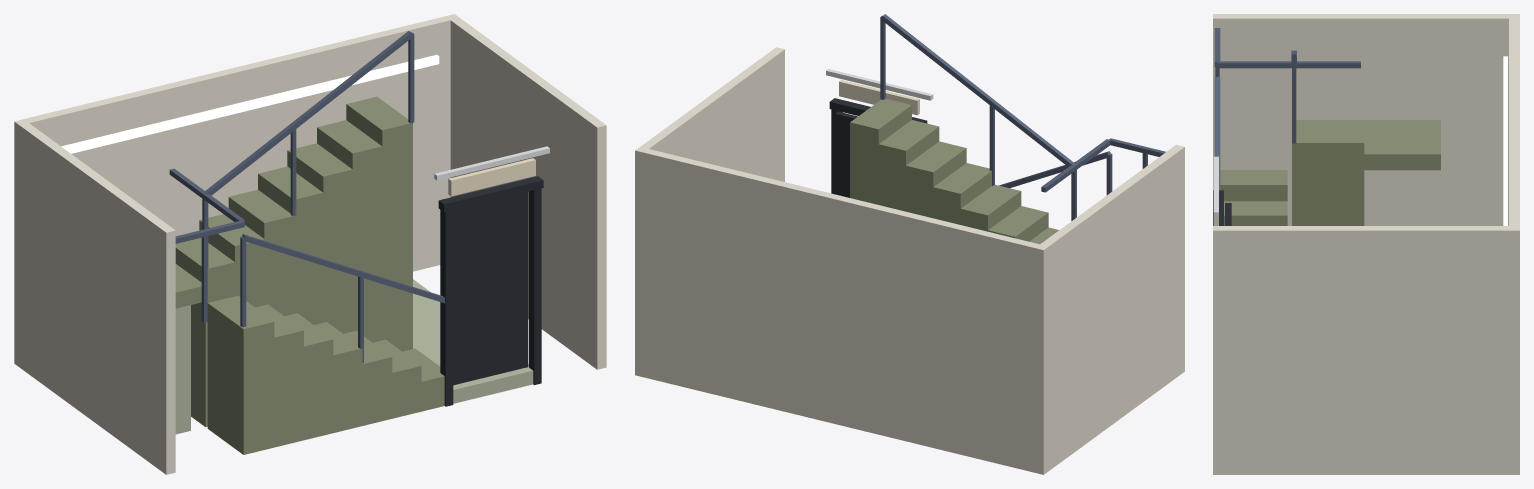
The model's file is escaleras_planta.gltf.
The picture shows the model from 3 angles, left to right: view 1: azimuth 30°, elevation 25°; view 2: azimuth 150°, elevation 25°; view 3: azimuth 270°, elevation 25°; orthographic projection. The views are drawn at different scales.
Visible parts, largest first — view 1: muro_der, muro_fondo, muro_izq, hueco, peldano_a7, peldano_b7, peldano_b6, peldano_b5, peldano_b4, peldano_b3, peldano_b1, peldano_a6 (+19 smaller); view 2: muro_fondo, muro_der, muro_izq, peldano_b7, peldano_b6, peldano_b5, peldano_b4, peldano_b3, barandilla_b, peldano_b2, hueco, rotulo (+3 smaller); view 3: muro_izq, muro_der, peldano_b7, descansillo, muro_fondo, peldano_a7, peldano_a6, union_tramos, luz_interior, barandilla_a, poste_b7, tira_luz.
Boxes of the visible parts, bbox=[...] form: muro_der: bbox=[14, 119, 175, 474]; muro_fondo: bbox=[14, 14, 459, 364]; muro_izq: bbox=[445, 14, 606, 369]; hueco: bbox=[453, 192, 528, 385]; peldano_a7: bbox=[207, 295, 274, 454]; peldano_b7: bbox=[346, 96, 412, 351]; peldano_b6: bbox=[317, 120, 383, 342]; peldano_b5: bbox=[287, 143, 354, 333]; peldano_b4: bbox=[258, 166, 324, 324]; peldano_b3: bbox=[228, 189, 295, 316]; peldano_b1: bbox=[175, 237, 236, 427]; peldano_a6: bbox=[255, 304, 303, 447]; muro_fondo: bbox=[635, 149, 1048, 474]; muro_der: bbox=[1035, 145, 1184, 474]; muro_izq: bbox=[635, 47, 784, 377]; peldano_b7: bbox=[850, 98, 911, 204]; peldano_b6: bbox=[877, 120, 939, 211]; peldano_b5: bbox=[904, 141, 966, 217]; peldano_b4: bbox=[932, 163, 991, 224]; peldano_b3: bbox=[959, 184, 1021, 231]; barandilla_b: bbox=[881, 14, 1075, 166]; peldano_b2: bbox=[986, 206, 1048, 241]; hueco: bbox=[835, 111, 857, 197]; rotulo: bbox=[839, 80, 919, 115]; muro_izq: bbox=[1213, 226, 1519, 474]; muro_der: bbox=[1213, 14, 1519, 225]; peldano_b7: bbox=[1292, 127, 1364, 225]; descansillo: bbox=[1296, 120, 1440, 170]; muro_fondo: bbox=[1509, 14, 1519, 474]; peldano_a7: bbox=[1220, 170, 1287, 201]; peldano_a6: bbox=[1224, 201, 1287, 225]; union_tramos: bbox=[1218, 61, 1360, 68]; luz_interior: bbox=[1503, 56, 1507, 225]; barandilla_a: bbox=[1214, 77, 1220, 190]; poste_b7: bbox=[1292, 53, 1296, 143]; tira_luz: bbox=[1213, 156, 1218, 217].
Size of the model in its own units: 4.68 by 3.5 by 2.8.
